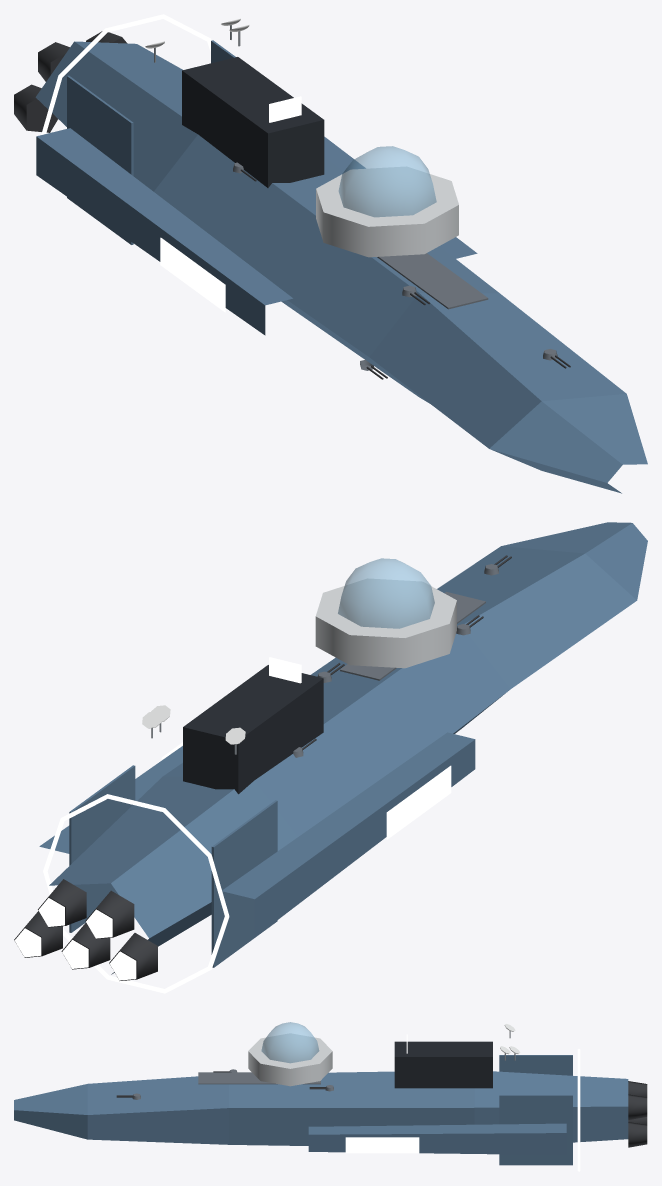
The model's file is space_ship_command_ship_mk6_lod1.glb.
3 views of the same model, one above another, from view 1: azimuth 30°, elevation 25°; view 2: azimuth 150°, elevation 25°; view 3: azimuth 270°, elevation 25° (orthographic). The views are drawn at different scales.
Parts seen in each view (by area): view 1: body, hangar_r, engine_0, engine_1; view 2: body, hangar_r, engine_1, engine_3, engine_0, engine_2, engine_4; view 3: body, hangar_l, engine_3, engine_4, engine_1.
Boxes of the visible parts, left/top/right/bottom form: body: left=35, top=14, right=647, bottom=493; hangar_r: left=160, top=237, right=225, bottom=312; engine_0: left=14, top=84, right=57, bottom=132; engine_1: left=38, top=42, right=69, bottom=81; body: left=39, top=522, right=647, bottom=993; hangar_r: left=386, top=765, right=451, bottom=839; engine_1: left=85, top=890, right=134, bottom=939; engine_3: left=38, top=879, right=86, bottom=927; engine_0: left=109, top=933, right=157, bottom=980; engine_2: left=61, top=923, right=110, bottom=969; engine_4: left=14, top=911, right=62, bottom=957; body: left=14, top=1022, right=628, bottom=1171; hangar_l: left=345, top=1137, right=419, bottom=1153; engine_3: left=628, top=1094, right=647, bottom=1119; engine_4: left=628, top=1122, right=647, bottom=1147; engine_1: left=628, top=1081, right=647, bottom=1097.
Bounding box in the file's own units: 31.34 × 31.97 × 132.
